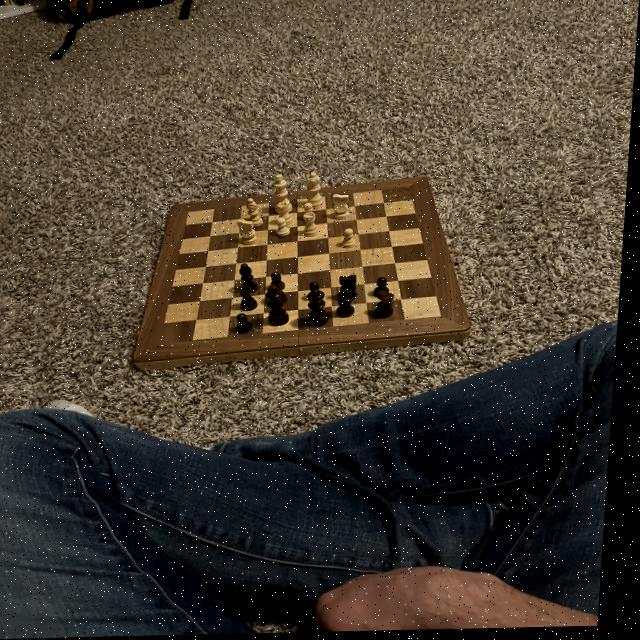bishop: (239, 264, 264, 299), (340, 288, 362, 321)
black-bishop: (264, 286, 298, 331)
black-king: (377, 291, 402, 321), (338, 276, 364, 304)
black-knight: (375, 277, 398, 301), (239, 313, 260, 338), (309, 283, 331, 304), (272, 272, 291, 294)
black-pawn: (304, 290, 335, 330)
black-queen: (268, 281, 293, 309), (242, 284, 263, 313)
black-rook: (248, 198, 268, 228)
white-bishop: (275, 174, 300, 217)
white-king: (332, 193, 354, 224), (240, 219, 263, 248)
white-knight: (302, 202, 322, 225), (341, 228, 361, 250), (276, 218, 296, 239)
white-pawn: (304, 171, 330, 212)
white-queen: (303, 213, 325, 241), (278, 202, 297, 227)
